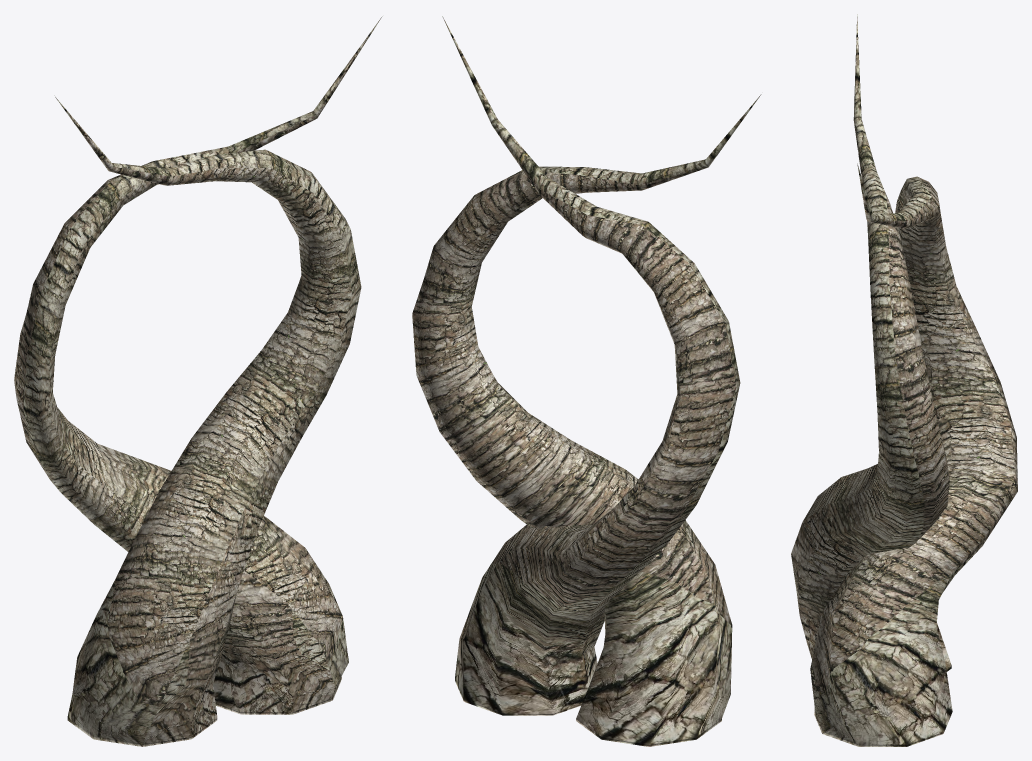
3 views of the same model, side by side, from view 1: azimuth 30°, elevation 25°; view 2: azimuth 150°, elevation 25°; view 3: azimuth 270°, elevation 25° (orthographic). The views are drawn at different scales.
Parts seen in each view (by area): view 1: polySurface20; view 2: polySurface20; view 3: polySurface20.
Boxes of the visible parts, left/top/right/bottom form: polySurface20: left=14, top=16, right=382, bottom=746; polySurface20: left=412, top=16, right=761, bottom=746; polySurface20: left=791, top=14, right=1017, bottom=746.
Size of the model in its own units: 11536 by 21868 by 7459.
